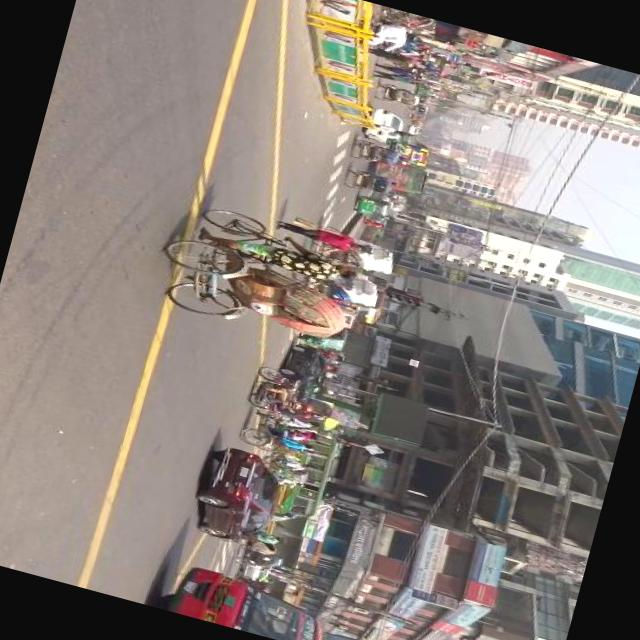bus: (162, 558, 333, 640), (264, 424, 343, 524), (338, 268, 392, 328), (368, 156, 434, 198), (384, 136, 434, 168)
car: (188, 439, 294, 552), (273, 338, 334, 406), (360, 102, 409, 146), (407, 122, 420, 136)
motorcycle: (154, 196, 373, 353), (285, 254, 386, 316), (235, 402, 315, 465), (240, 362, 320, 424), (308, 223, 401, 274), (239, 498, 298, 560), (296, 315, 353, 353), (230, 540, 286, 578), (366, 78, 424, 113), (342, 166, 400, 200), (376, 4, 434, 38), (344, 136, 402, 168), (353, 192, 393, 220)
